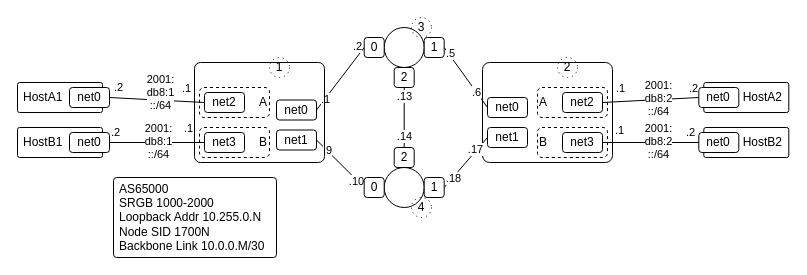
Some shapes in this 807 by 275 pixel diagram are drawn without their labels. Each missing label, with the box of its shape:
R1: (194, 62, 324, 162)
R2: (482, 62, 612, 162)
R3: (383, 26, 424, 68)
R4: (383, 166, 424, 208)
